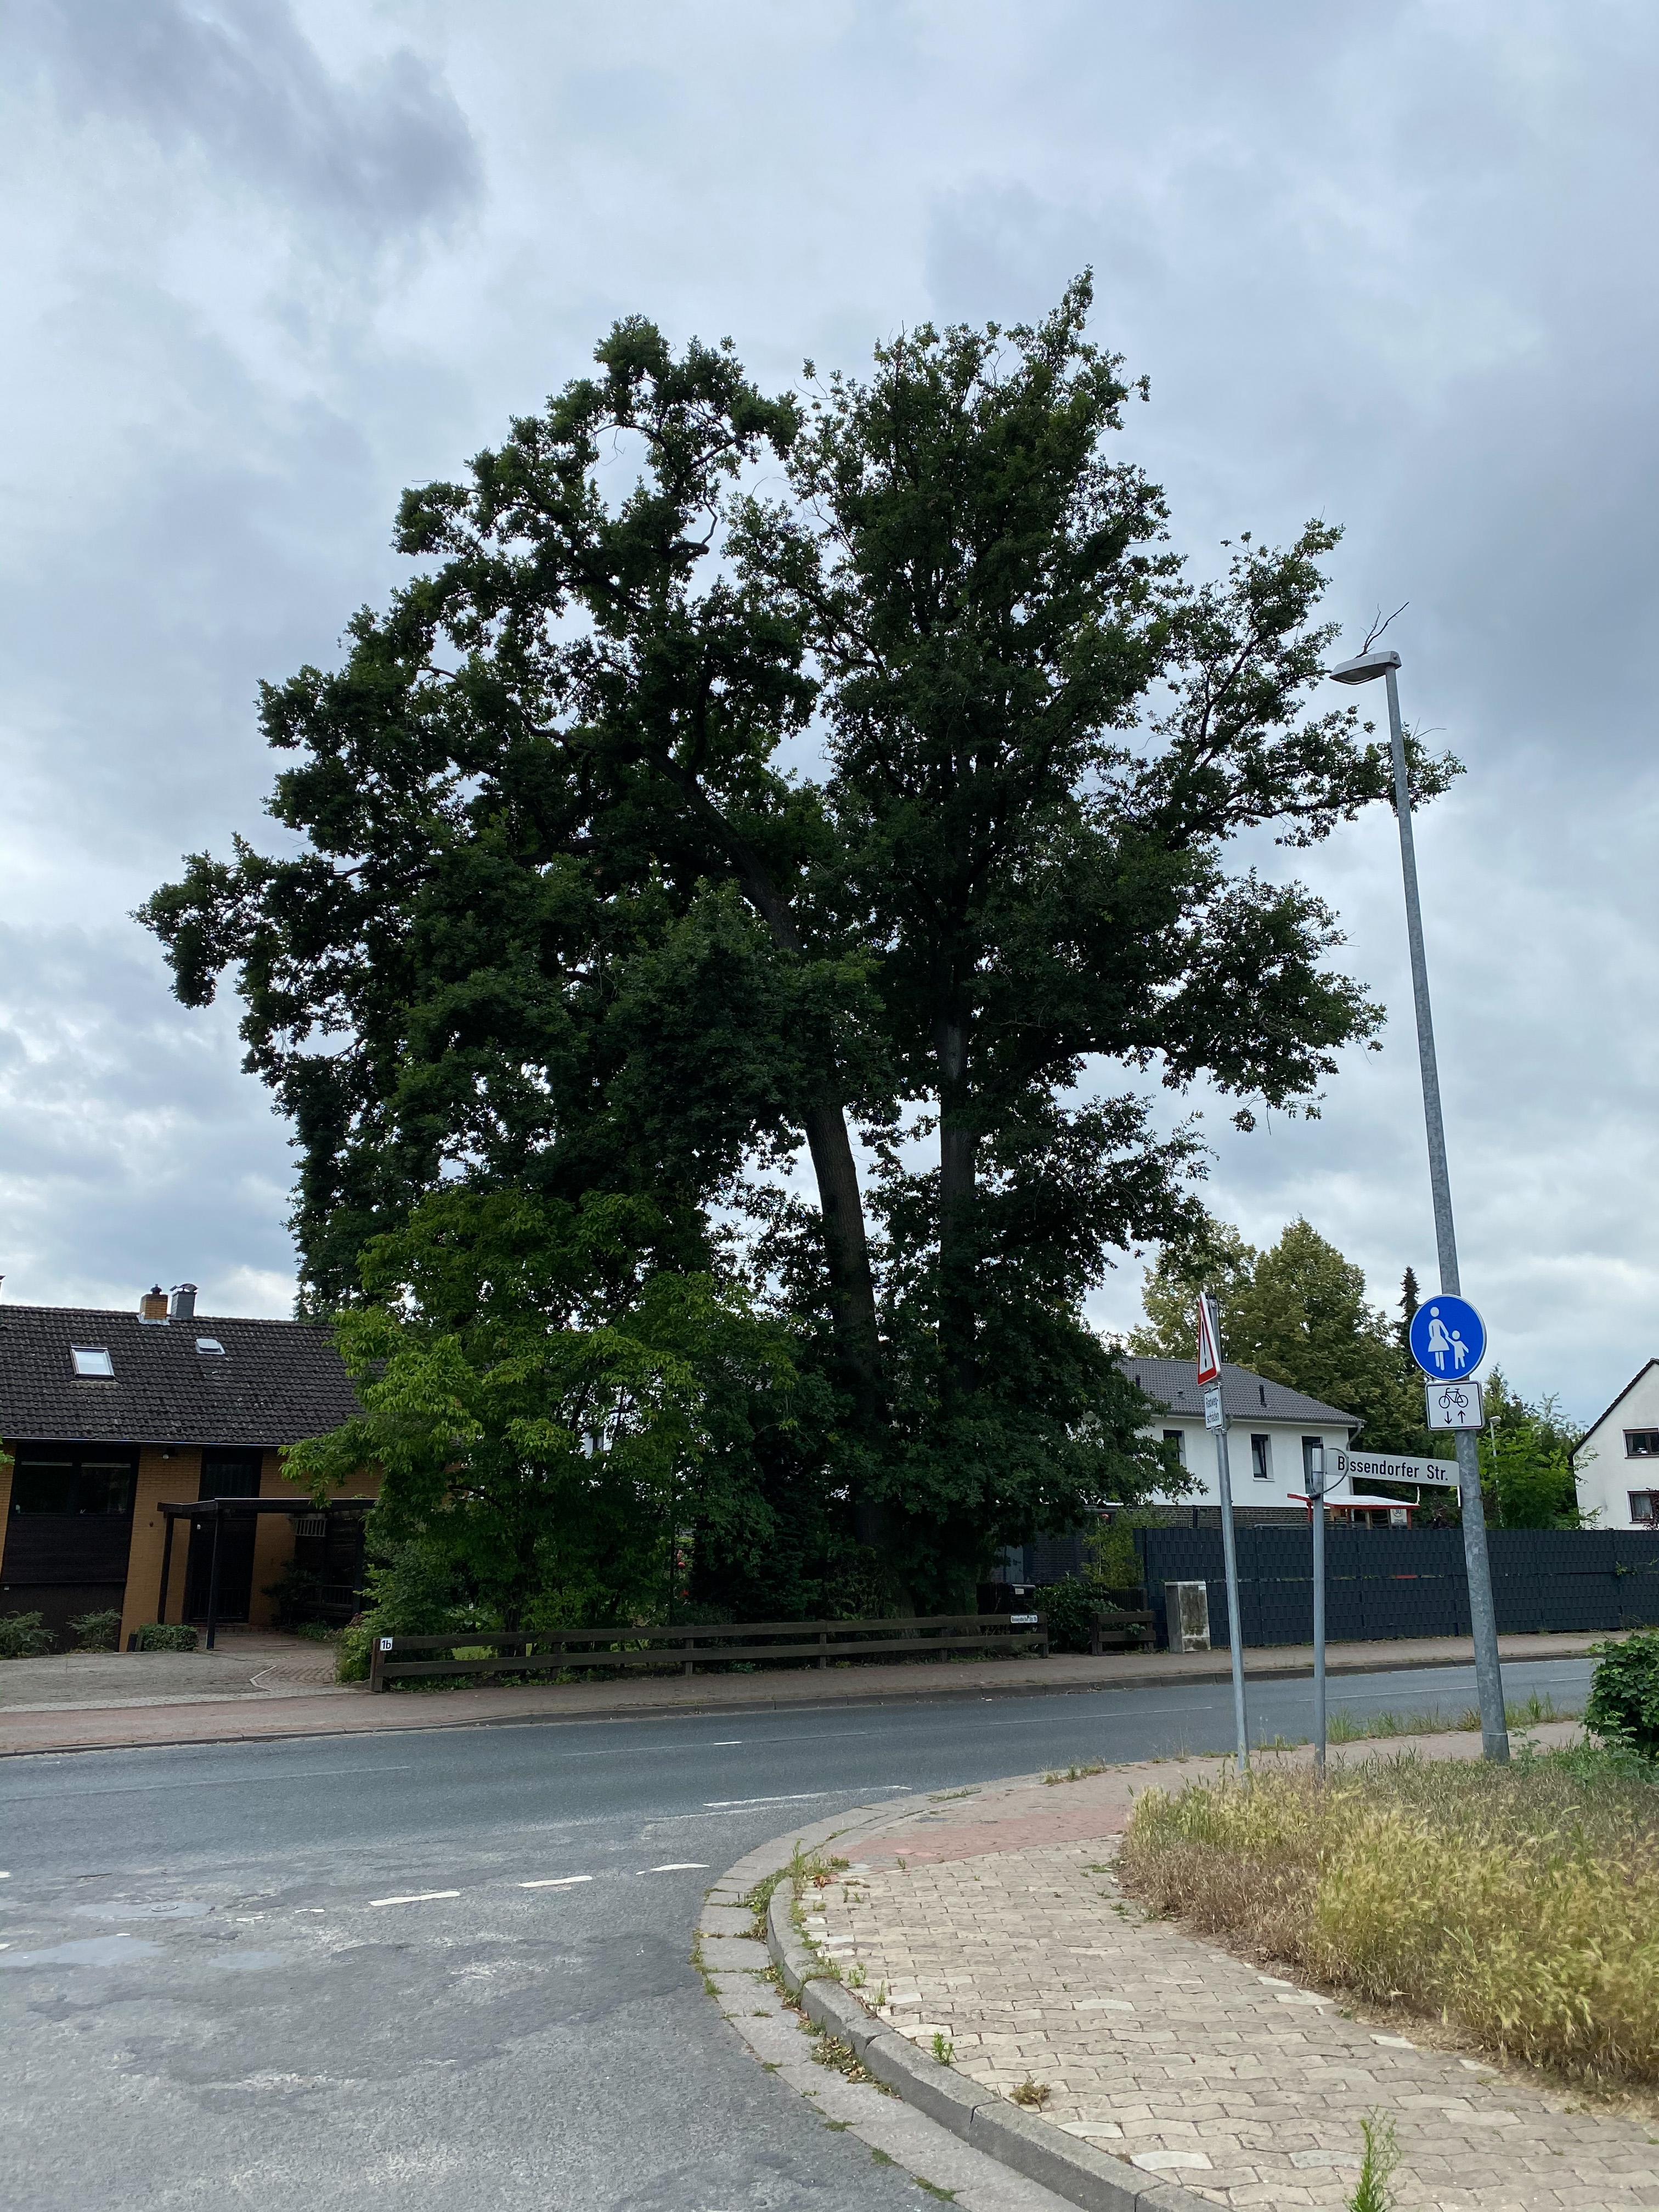tree: (125, 314, 939, 1615), (720, 261, 1467, 1615), (277, 1190, 803, 1634), (1230, 1211, 1425, 1505), (1126, 1211, 1361, 1409), (1389, 1264, 1438, 1386)
